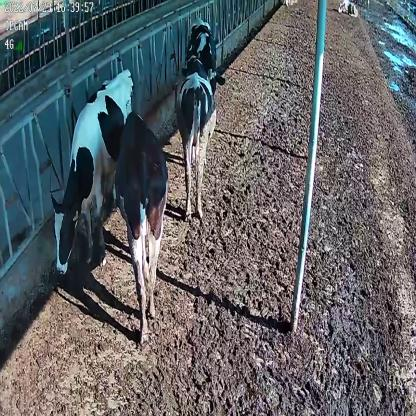cow: (49, 65, 135, 278), (114, 109, 169, 345), (178, 48, 216, 219), (190, 14, 226, 95), (337, 0, 358, 18)
